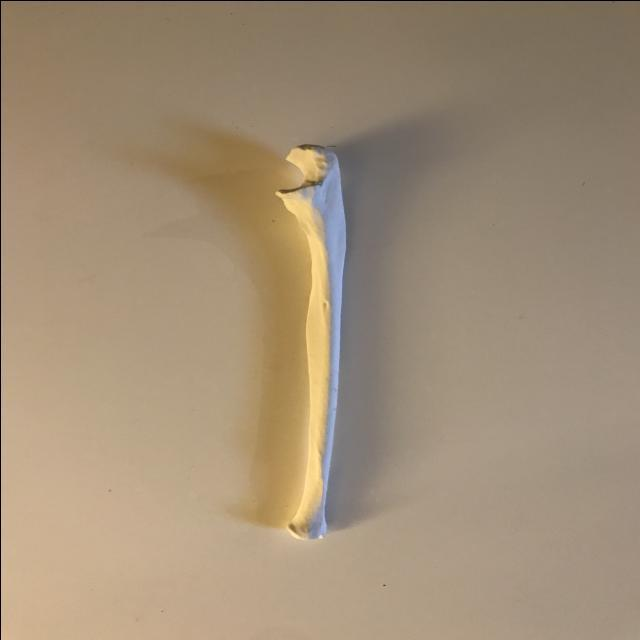bone: (274, 138, 354, 544)
